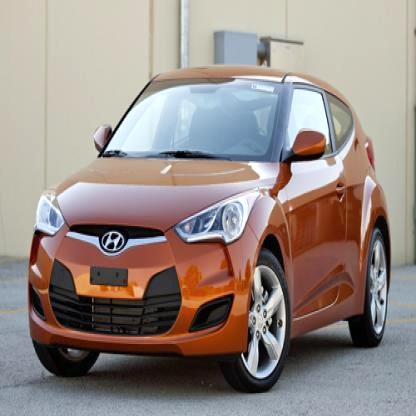Vehicle: (28, 69, 392, 395)
